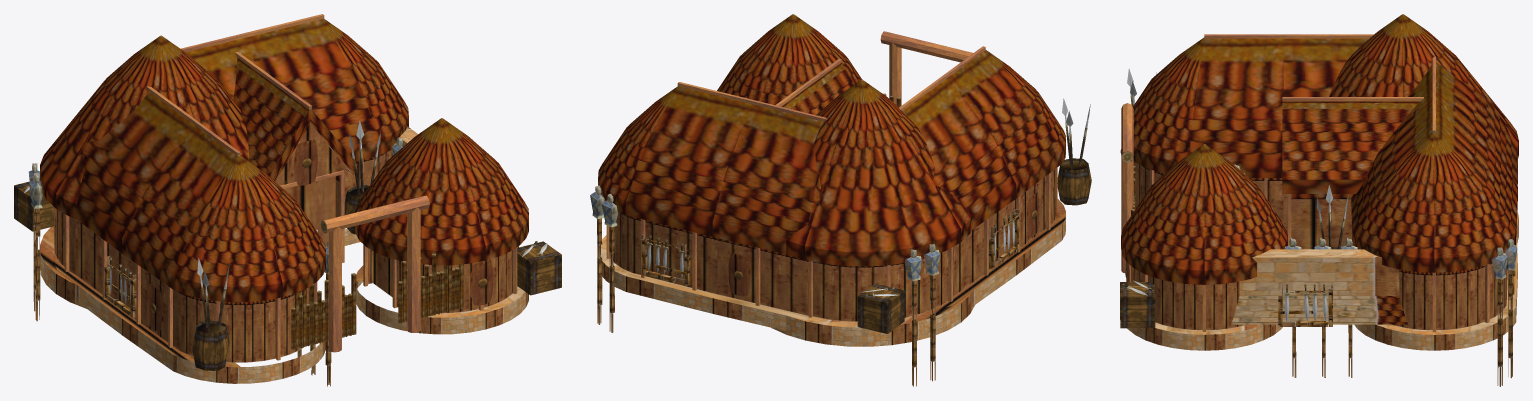
File: stable.dae
3 renders of one model, left to right at view 1: azimuth 30°, elevation 25°; view 2: azimuth 150°, elevation 25°; view 3: azimuth 270°, elevation 25°, orthographic. The views are drawn at different scales.
Visible parts, largest first — view 1: stable; view 2: stable; view 3: stable.
Boxes of the visible parts, <box> form: stable: <box>14,14,561,386</box>; stable: <box>590,14,1091,386</box>; stable: <box>1120,14,1518,386</box>.
Bounding box in the file's own units: 21.51 × 21.72 × 15.95.
